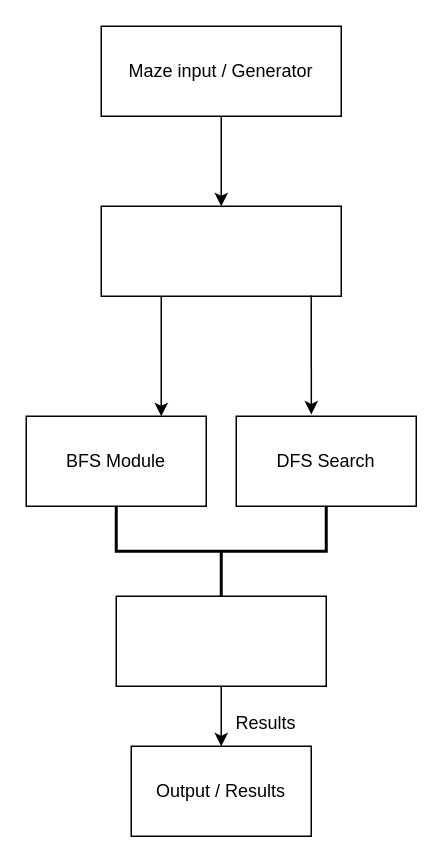
This 443x863 diagram has some shape labels left out. The centre of each missing label's shape, as x and y in pixels:
"Performance Profiler" belongs at (220,640).
"Search Engine" belongs at (220,250).
